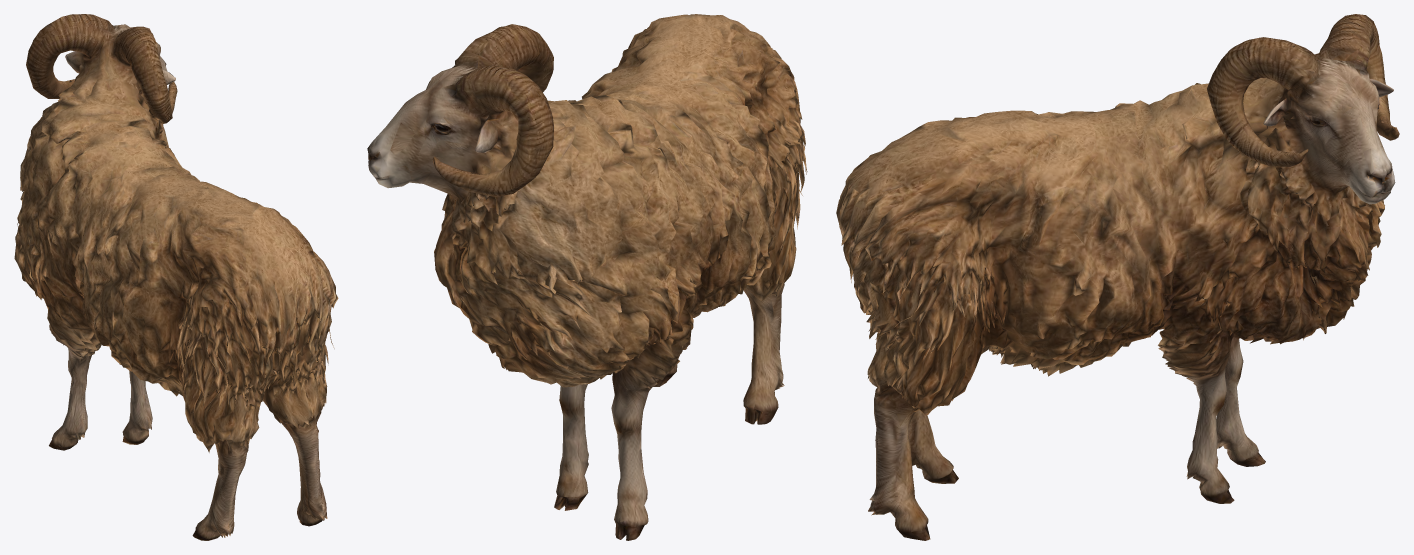
File: montone_lana.gltf
The picture shows the model from 3 angles, left to right: view 1: azimuth 30°, elevation 25°; view 2: azimuth 150°, elevation 25°; view 3: azimuth 270°, elevation 25°; orthographic projection. The views are drawn at different scales.
Visible parts, largest first — view 1: animal; view 2: animal; view 3: animal.
Boxes of the visible parts, x1=… form: animal: x1=14, y1=14, x2=338, y2=540; animal: x1=367, y1=14, x2=807, y2=540; animal: x1=836, y1=14, x2=1399, y2=540.
Bounding box in the file's own units: 0.4887 × 0.9501 × 1.
Materials: 1 (1 with a texture image).
